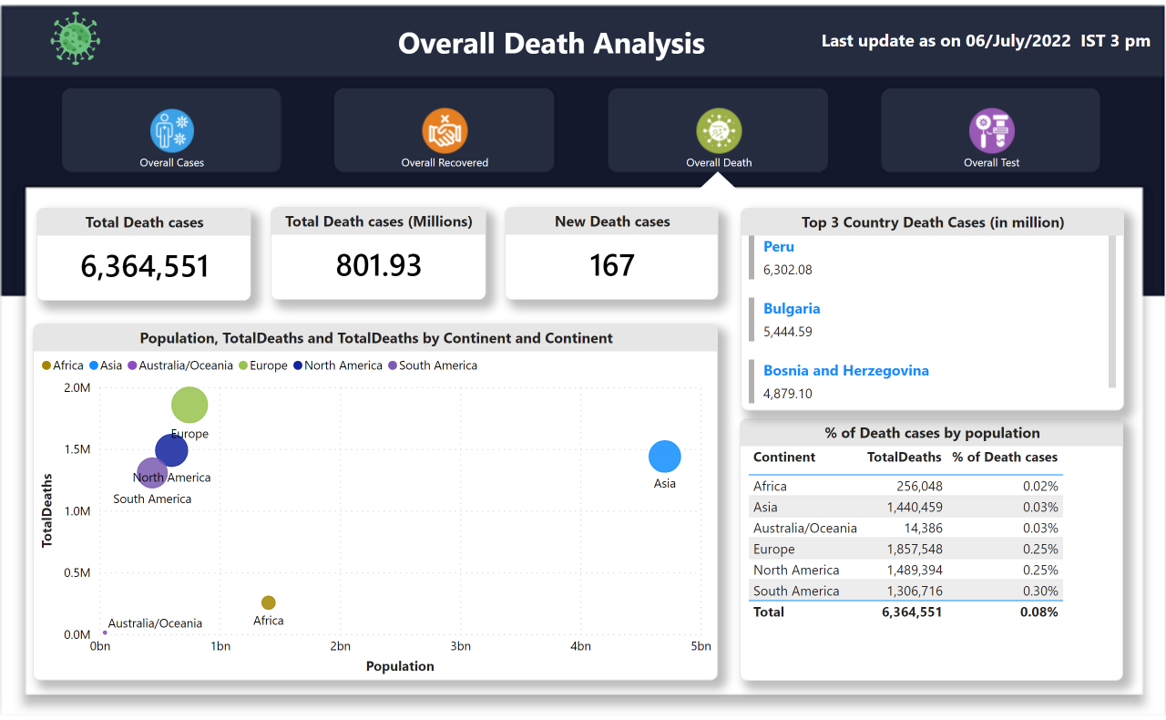

What the dashboard file says about the page in this screenshot:
{"tool":"powerbi","page":{"name":"Overall Death","canvas":[1280,780],"ordinal":2},"visuals":[{"type":"textbox","box":[432.3,14.2,378.5,59.5],"z":0},{"type":"actionButton","box":[68,92.1,239.6,90.7],"z":1000},{"type":"actionButton","box":[367.1,92.1,241,90.7],"z":2000},{"type":"actionButton","box":[667.6,91.7,241,90.7],"z":3000},{"type":"actionButton","box":[968.2,91.7,239.6,90.7],"z":4000},{"type":"shape","box":[764,182.9,48.2,22.7],"z":5000},{"type":"card","title":"Total Death cases (Millions)","fields":{"Values":["Calculated Measure.Overall Death Cases (millions)"]},"box":[296.7,222.2,236.3,101.8],"z":6000},{"type":"textbox","box":[874.6,20.7,393.3,46.6],"z":7000},{"type":"tableEx","title":"% of Death cases by population","fields":{"Values":["Covid_Data.Continent","Sum(Covid_Data.TotalDeaths)","Calculated Measure.% of Death cases by population"]},"box":[812.2,453.6,421,287.8],"z":8000},{"type":"card","title":"Total Death cases","fields":{"Values":["Sum(Covid_Data.TotalDeaths)"]},"box":[39.6,222.9,235.3,102.1],"z":9000},{"type":"multiRowCard","title":"Top 3 Country Death Cases (in million)","fields":{"Values":["Calculated Measure.Overall Death Cases (millions)","Covid_Data.Country"]},"box":[812.5,222.5,420.9,222.5],"z":10000},{"type":"scatterChart","fields":{"Category":["Covid_Data.Continent"],"X":["Sum(Covid_Data.Population)"],"Y":["Sum(Covid_Data.TotalDeaths)"],"Series":["Covid_Data.Continent"],"Size":["Sum(Covid_Data.TotalDeaths)"]},"box":[36.2,350.2,752.1,391.6],"z":11000},{"type":"card","title":"New Death cases","fields":{"Values":["Sum(Covid_Data.NewDeaths)"]},"box":[553.7,222.2,234.6,101.8],"z":12000},{"type":"image","box":[0,0,165.6,74.2],"z":13000}]}

Visuals, with their boxes in screenshot pixels (x1, y1, x2, y2), scaled from the page's 1280x780 canvas onto the 1166x720 screenshot:
textbox: crop(394, 13, 739, 68)
actionButton: crop(62, 85, 280, 169)
actionButton: crop(334, 85, 554, 169)
actionButton: crop(608, 85, 828, 168)
actionButton: crop(882, 85, 1100, 168)
shape: crop(696, 169, 740, 190)
"Total Death cases (Millions)" card: crop(270, 205, 486, 299)
textbox: crop(797, 19, 1155, 62)
"% of Death cases by population" tableEx: crop(740, 419, 1123, 684)
"Total Death cases" card: crop(36, 206, 250, 300)
"Top 3 Country Death Cases (in million)" multiRowCard: crop(740, 205, 1124, 411)
scatterChart - Covid_Data.Continent x Sum(Covid_Data.Population): crop(33, 323, 718, 685)
"New Death cases" card: crop(504, 205, 718, 299)
image: crop(0, 0, 151, 68)
